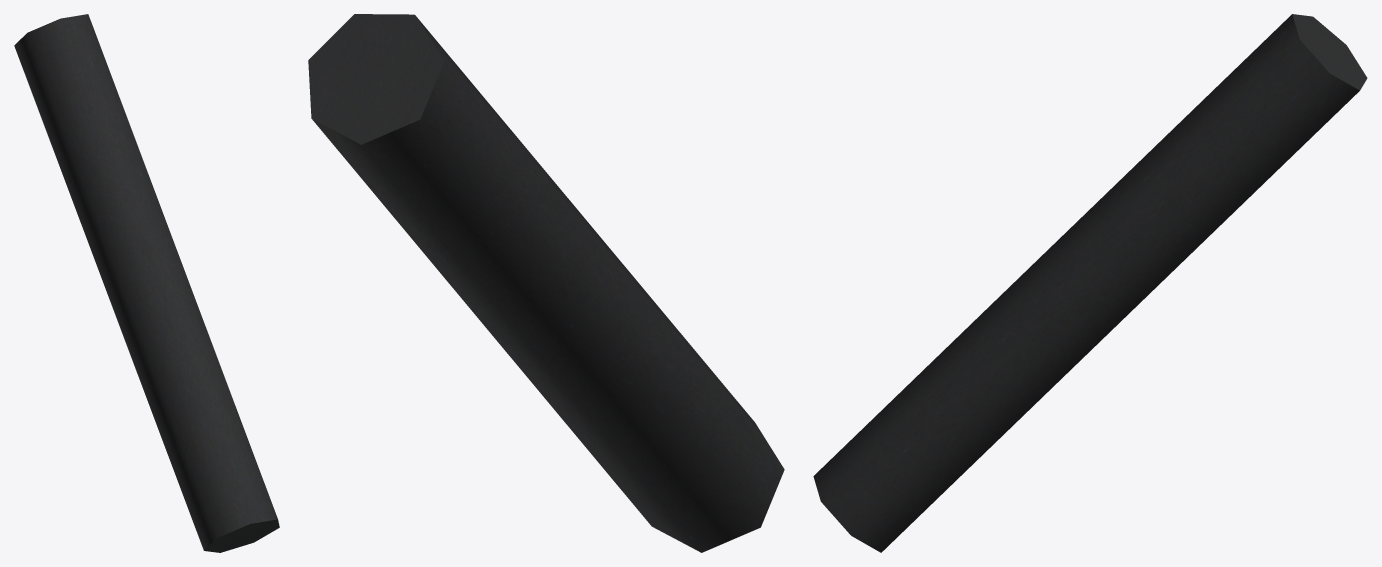
The model's file is Ejector_Spring_Pin.dae.
The picture shows the model from 3 angles, left to right: view 1: azimuth 30°, elevation 25°; view 2: azimuth 150°, elevation 25°; view 3: azimuth 270°, elevation 25°; orthographic projection. The views are drawn at different scales.
Visible parts, largest first — view 1: Ejector_Spring_Pin; view 2: Ejector_Spring_Pin; view 3: Ejector_Spring_Pin.
Part boxes in pixels (x1=…): Ejector_Spring_Pin: x1=14, y1=14, x2=279, y2=552; Ejector_Spring_Pin: x1=308, y1=14, x2=784, y2=552; Ejector_Spring_Pin: x1=813, y1=14, x2=1367, y2=552.
Bounding box in the file's own units: 0.00133 × 0.00733 × 0.00768.
Materials: 1 (1 with a texture image).
